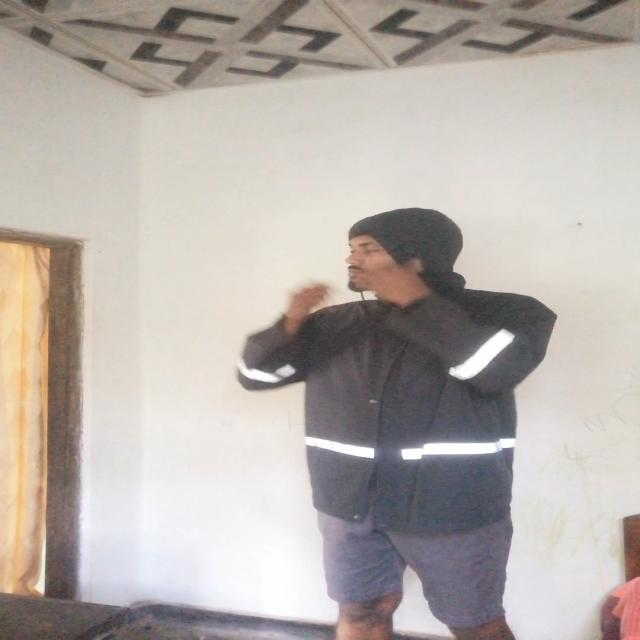Jacket_Wearer: (261, 216, 569, 522)
